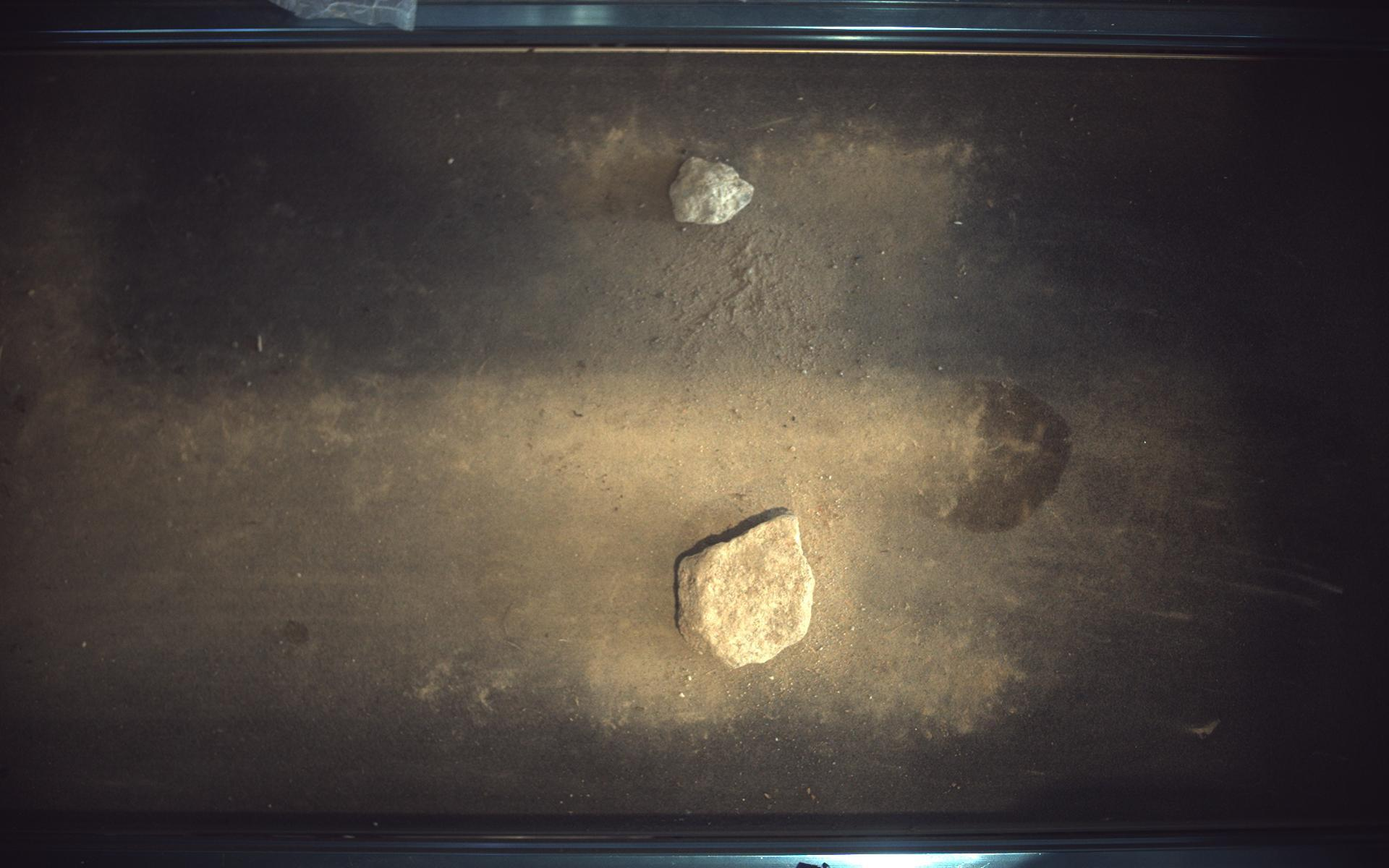stone: (679, 514, 816, 669), (670, 156, 755, 224)
